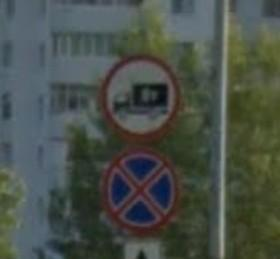No Parking: (102, 146, 182, 237)
